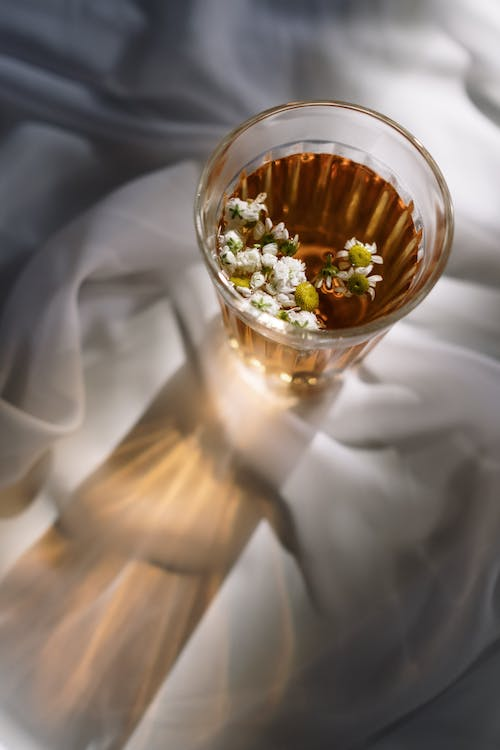alcohol: (192, 97, 456, 389)
